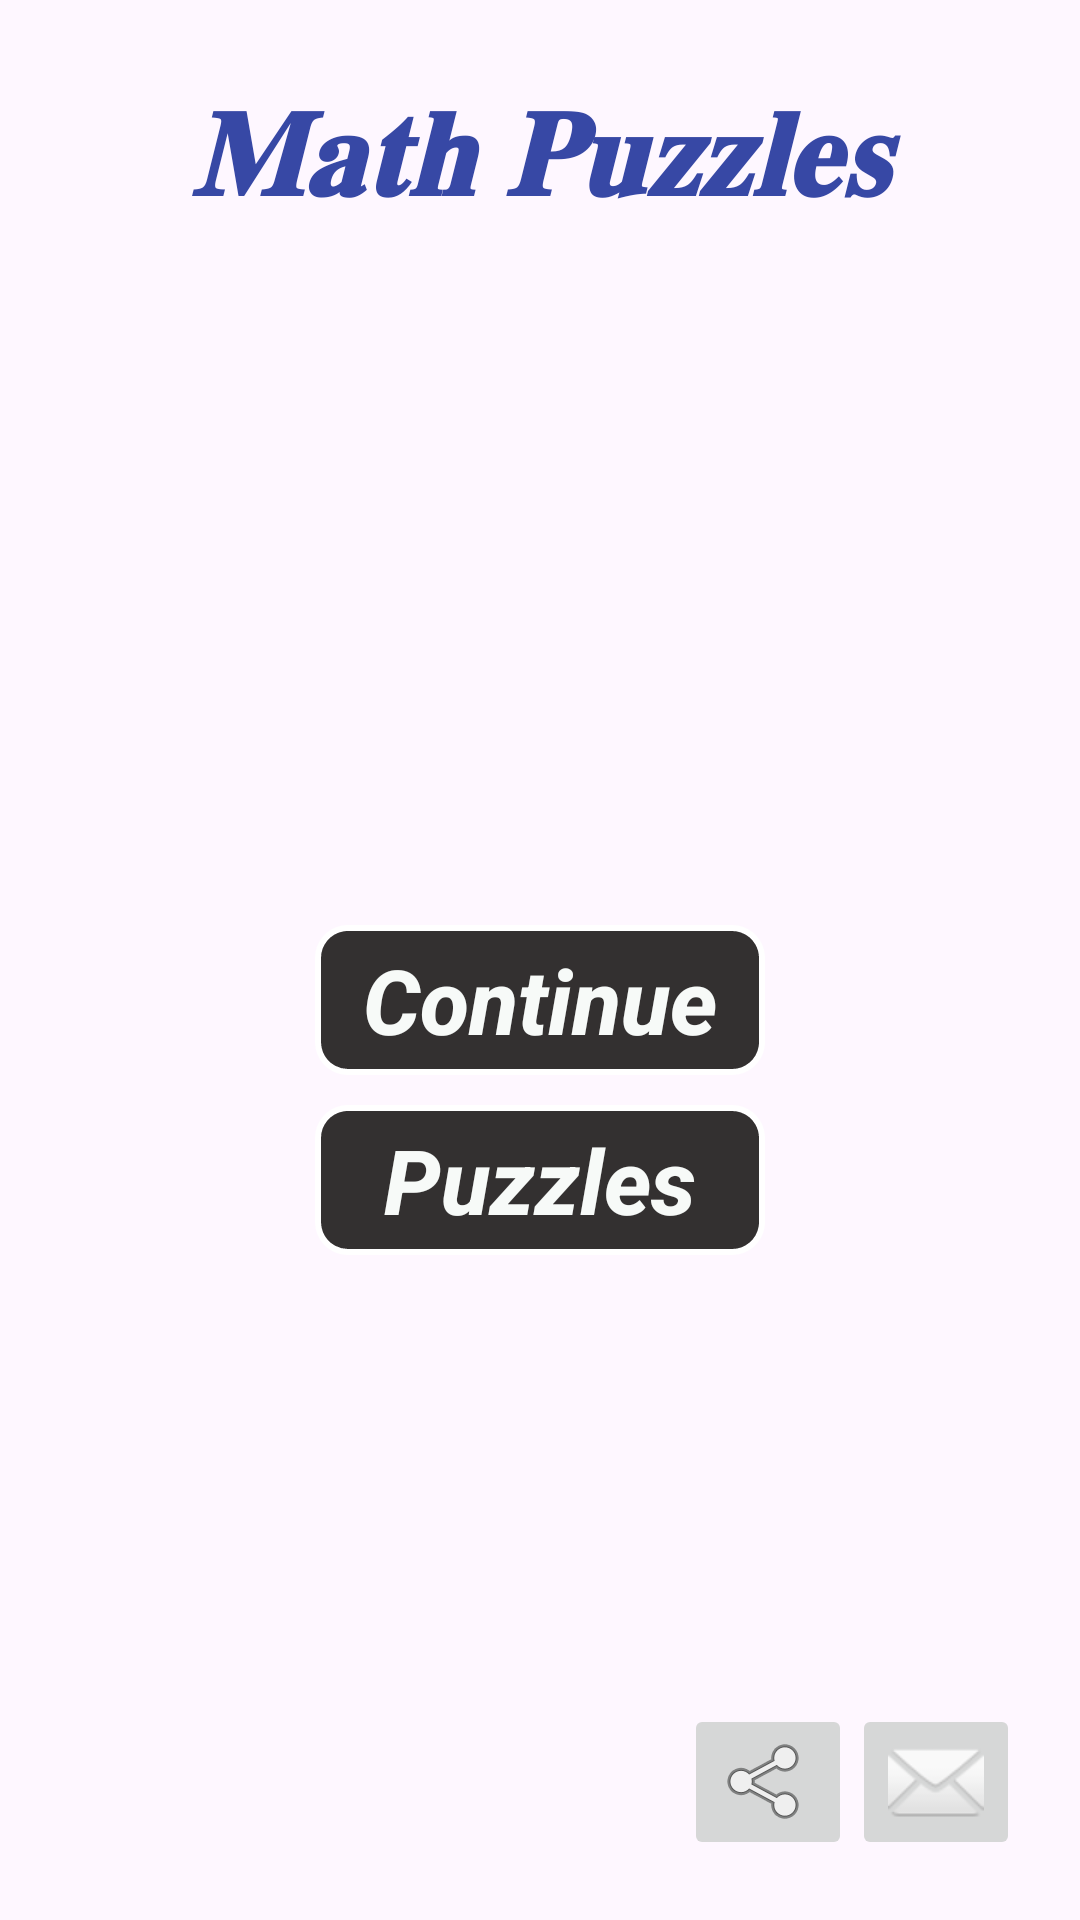

Point at icon controls on the screen. Image size 1080×1920, points as point (x, y).
email: point (936, 1782)
share: point (768, 1782)
